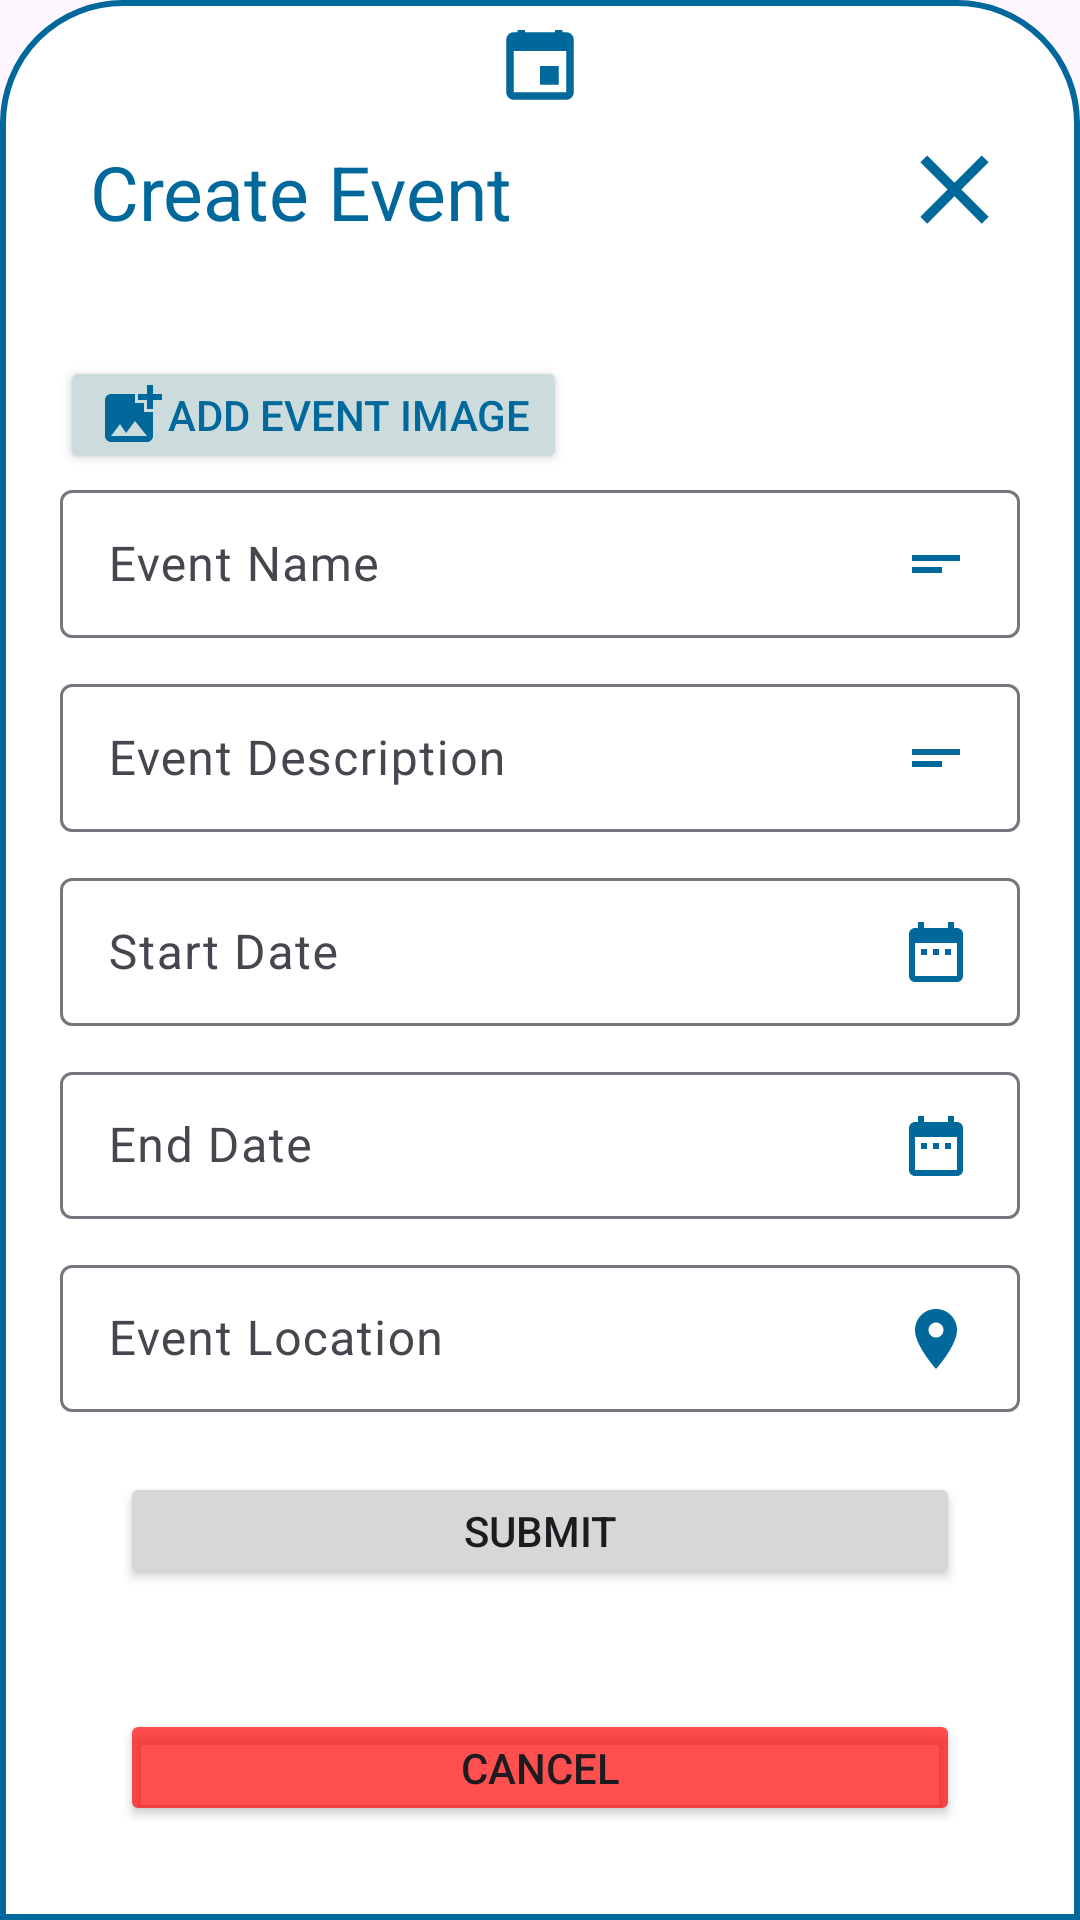

Where icons sit on this 1080px x 1920px app screen, as Rect(x1, y1, x2, y2):
clear: Rect(920, 155, 989, 224)
